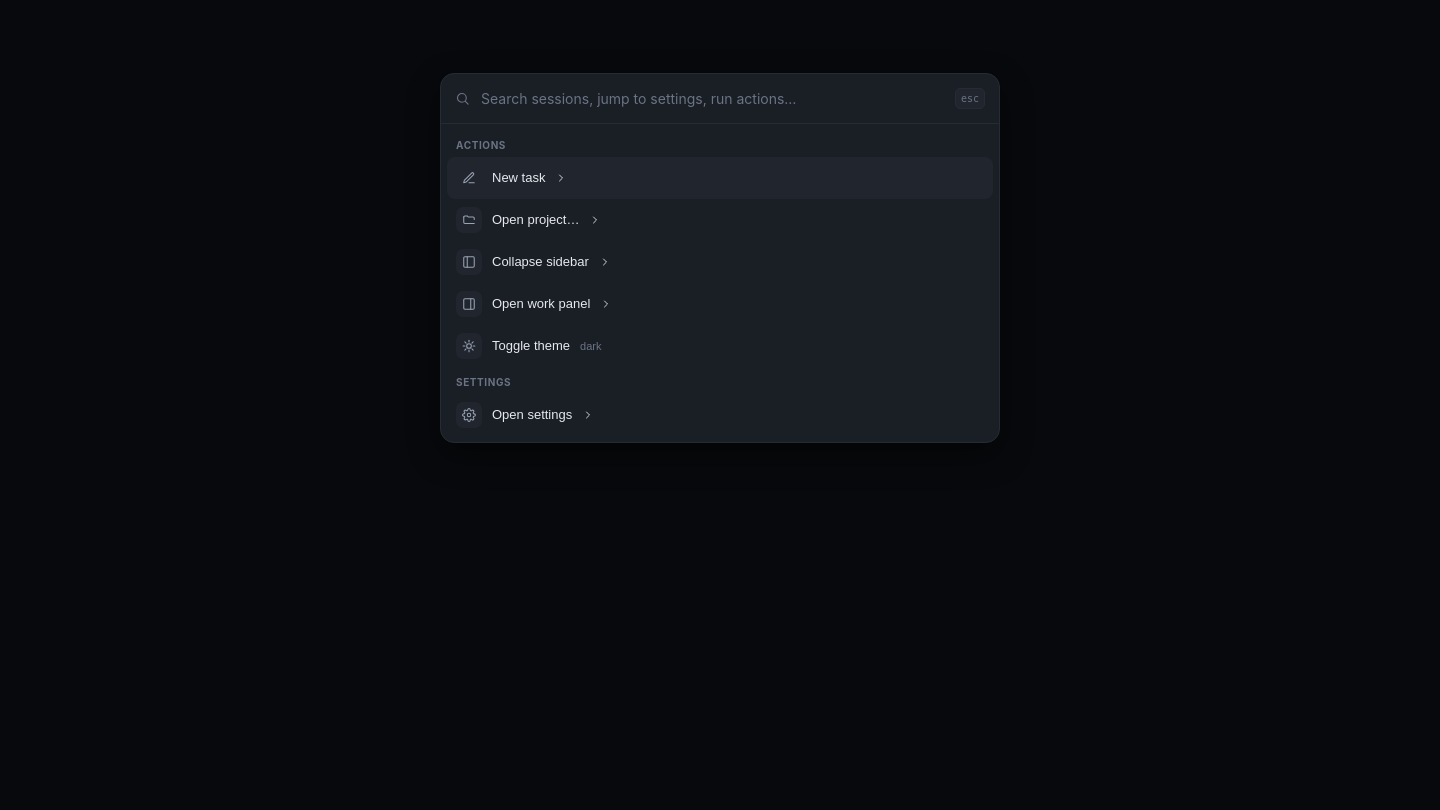
SearchDialog › filters actions by fuzzy query
The image size is (1440, 810).
Type "theme" into the field with placeholder "Search sessions, jump to settings, run actions…" at (712, 98), box [479,87,946,110]
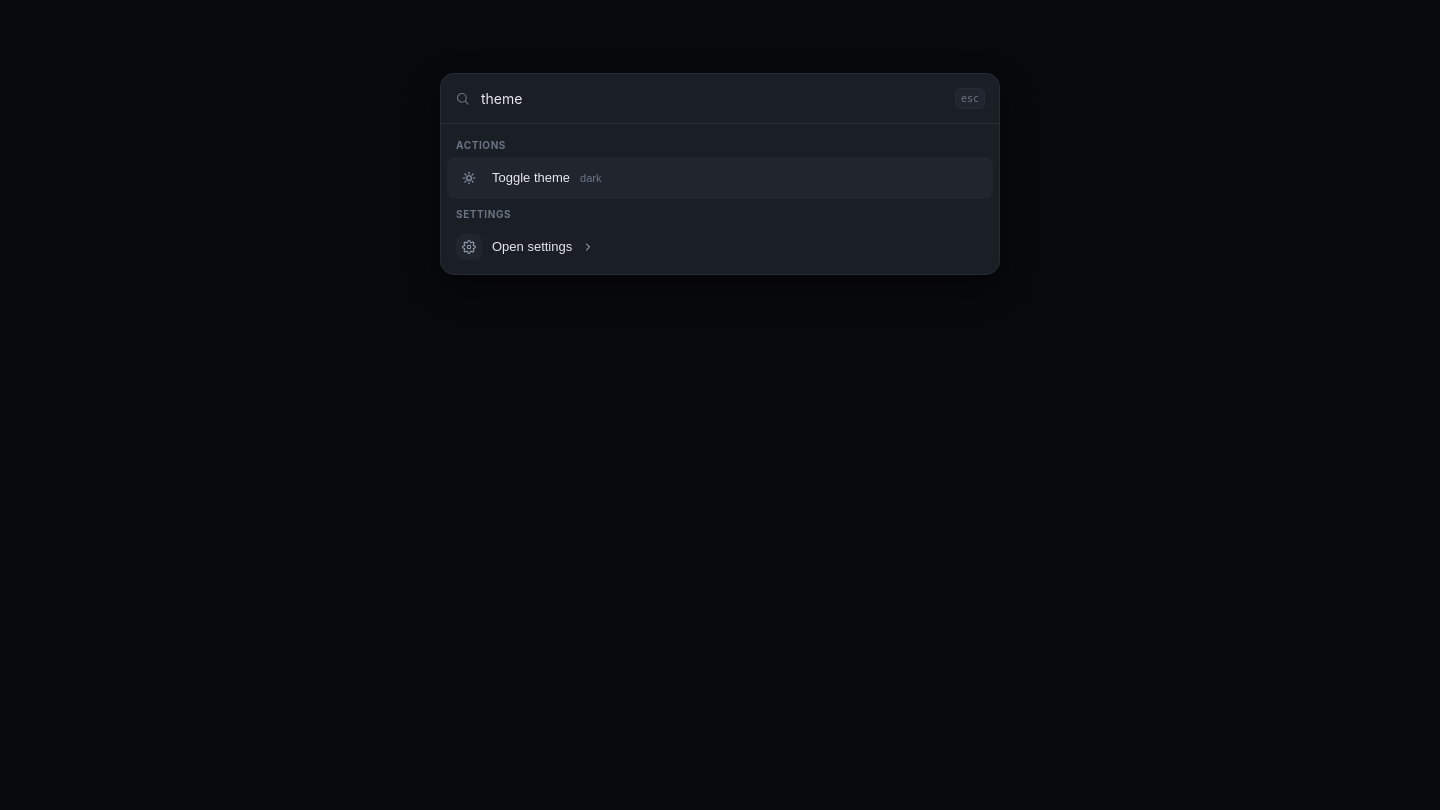
Expected: the button "Toggle theme dark" is shown, [447,157,993,199]
Now the button "New task" is gone
